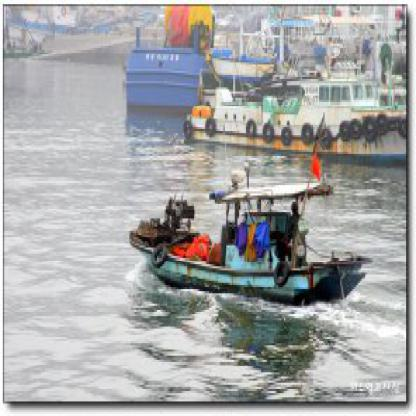fish-b: (115, 168, 371, 318), (176, 50, 413, 177)
